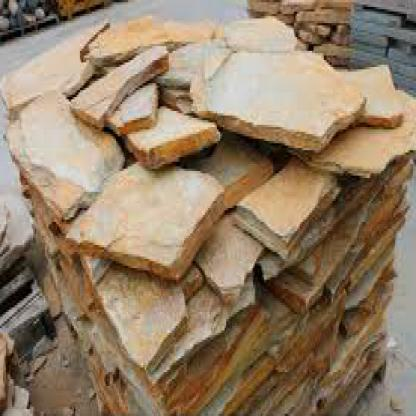Metamorphic_Quartize: (69, 160, 226, 271), (6, 94, 133, 219), (195, 37, 370, 125), (71, 37, 167, 134), (119, 97, 210, 171)
